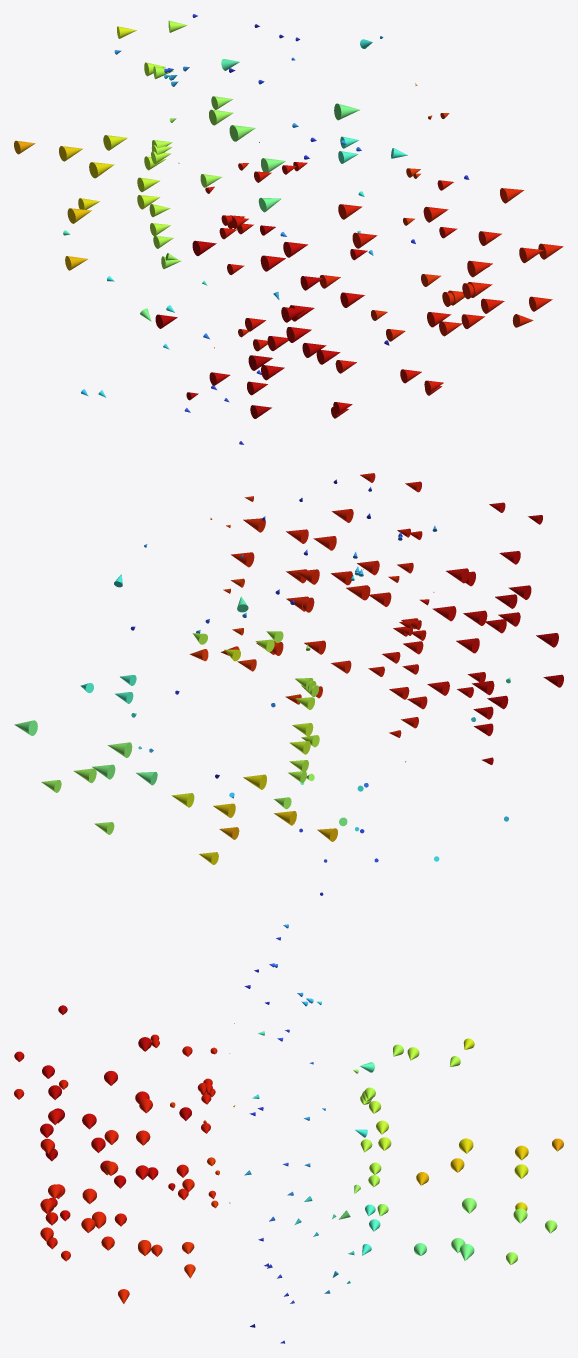
File: LineasCorrienteH2-O2_mh2-6.88_V-1.glb
3 views of the same model, one above another, from view 1: azimuth 30°, elevation 25°; view 2: azimuth 150°, elevation 25°; view 3: azimuth 270°, elevation 25° (orthographic). The views are drawn at different scales.
Bounding box in the file's own units: 0.000928 × 0.000952 × 0.00123.
Materials: 2 (2 with a texture image).
